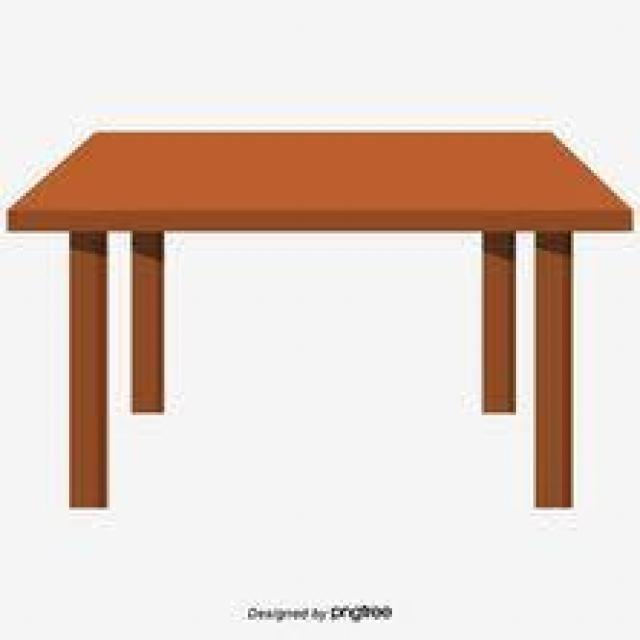table: (9, 72, 628, 539)
